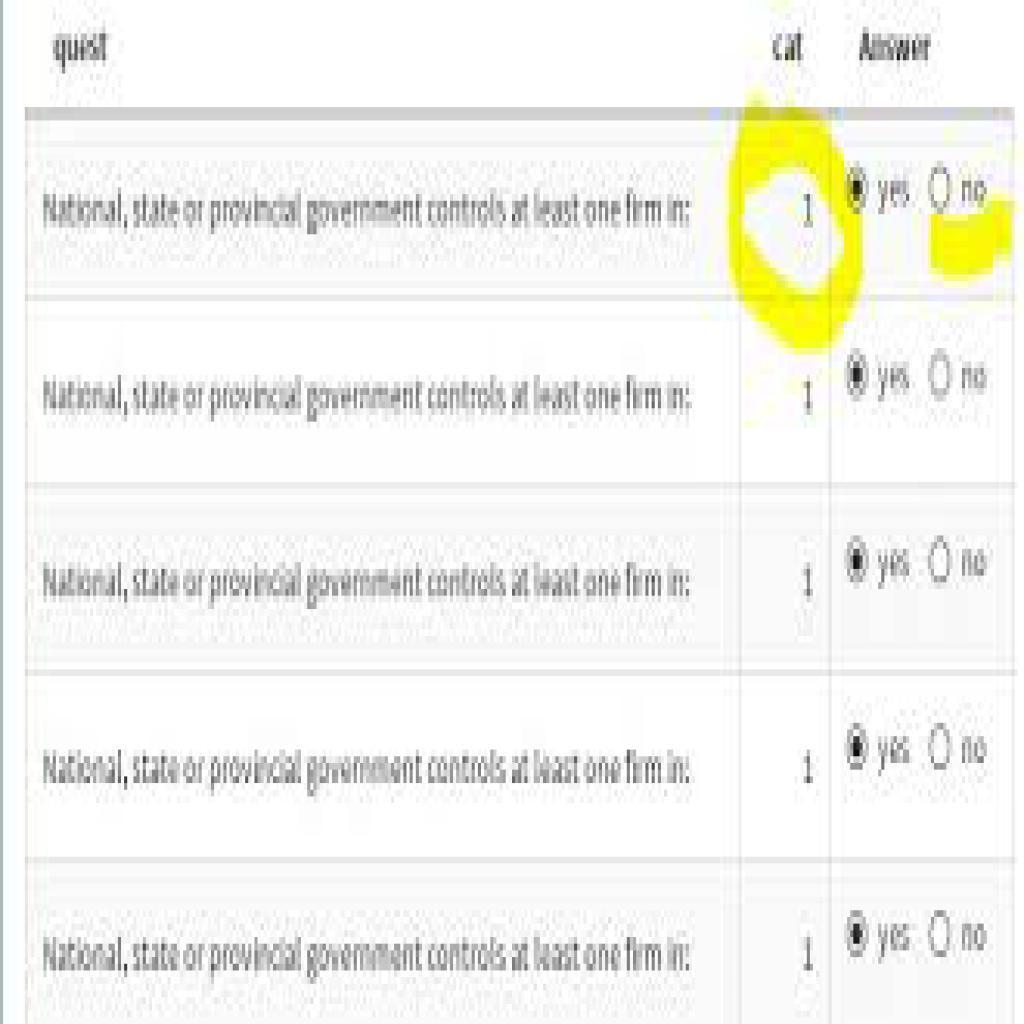radio: (843, 343, 873, 406), (927, 348, 956, 408), (846, 905, 872, 966), (929, 908, 953, 969), (928, 534, 956, 586), (929, 720, 955, 775), (845, 722, 873, 773), (928, 161, 953, 218), (848, 534, 871, 592), (847, 164, 871, 214)
table: (27, 114, 1008, 1006)
